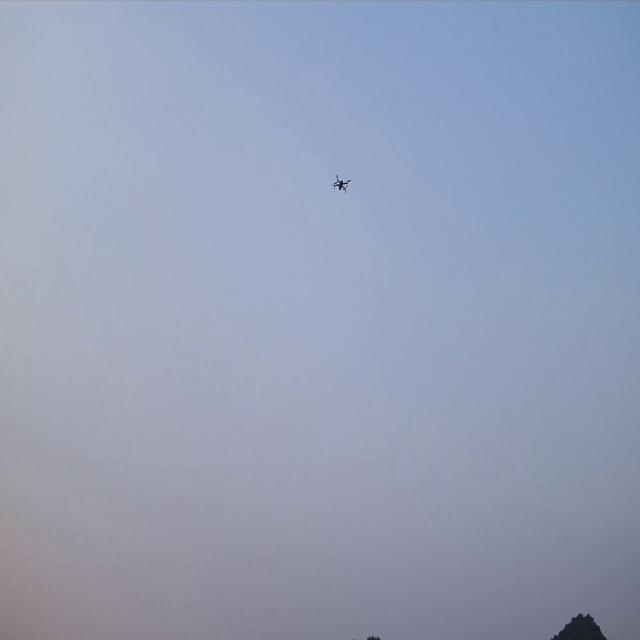UAV: (331, 172, 352, 194)
